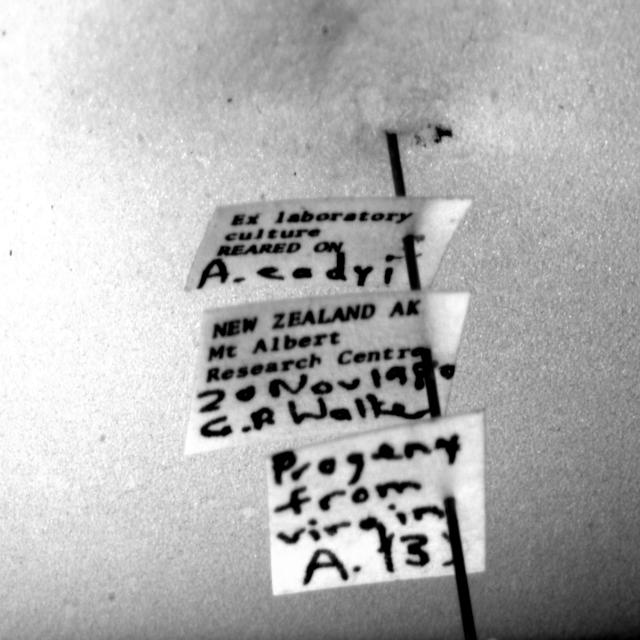hand_label: (266, 411, 485, 594)
mixed_label: (185, 291, 470, 454), (186, 197, 472, 291)
